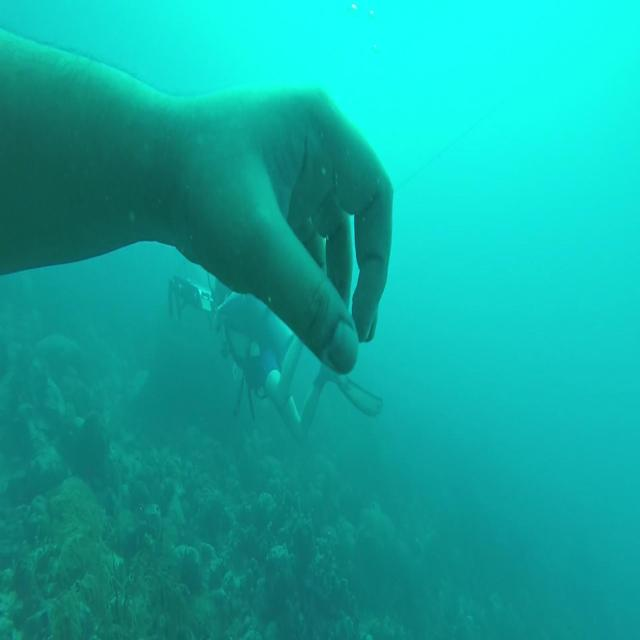human: (1, 25, 394, 378), (212, 289, 382, 443)
